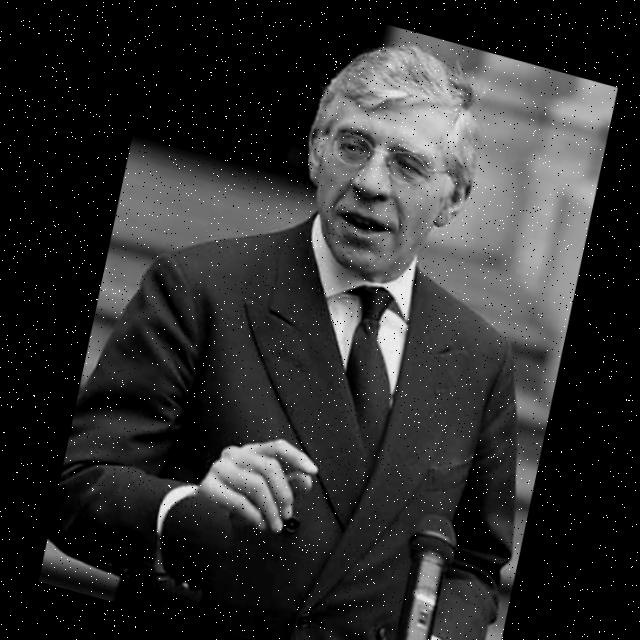face: (277, 37, 505, 306)
